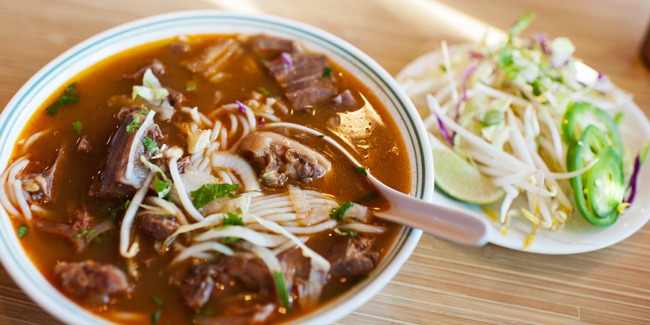beef: (92, 110, 171, 206), (248, 33, 340, 108), (170, 254, 277, 310), (247, 130, 329, 186), (53, 258, 135, 308), (324, 234, 379, 280)
onion: (198, 208, 297, 247)
